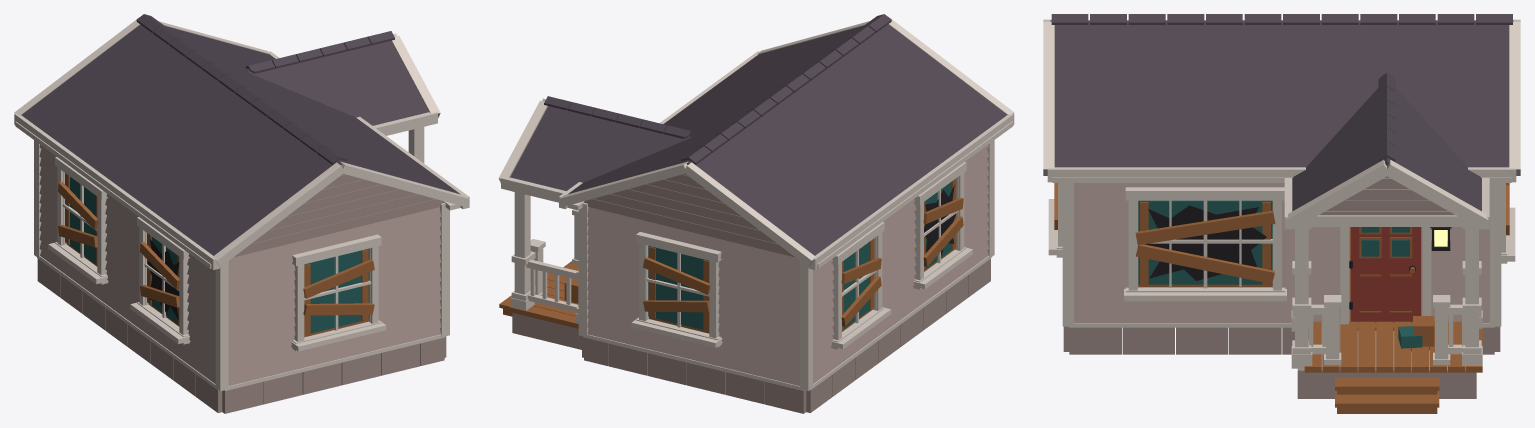
The model's file is bld.house-a.w2.lod1.glb.
The picture shows the model from 3 angles, left to right: view 1: azimuth 30°, elevation 25°; view 2: azimuth 150°, elevation 25°; view 3: azimuth 270°, elevation 25°; orthographic projection. The views are drawn at different scales.
Parts seen in each view (by area): view 1: roof, body, object 6; view 2: roof, body, object 6; view 3: roof, body, object 6, door_front.
Part boxes in pixels (<box>): roof: <box>14,14,469,270</box>; body: <box>34,127,449,413</box>; object 6: <box>48,157,386,351</box>; roof: <box>498,14,1014,269</box>; body: <box>499,140,994,413</box>; object 6: <box>564,162,972,349</box>; roof: <box>1043,14,1520,229</box>; body: <box>1062,183,1501,413</box>; object 6: <box>1048,183,1515,351</box>; door_front: <box>1349,227,1420,322</box>.
Size of the model in its own units: 7.14 by 4.56 by 7.17.
